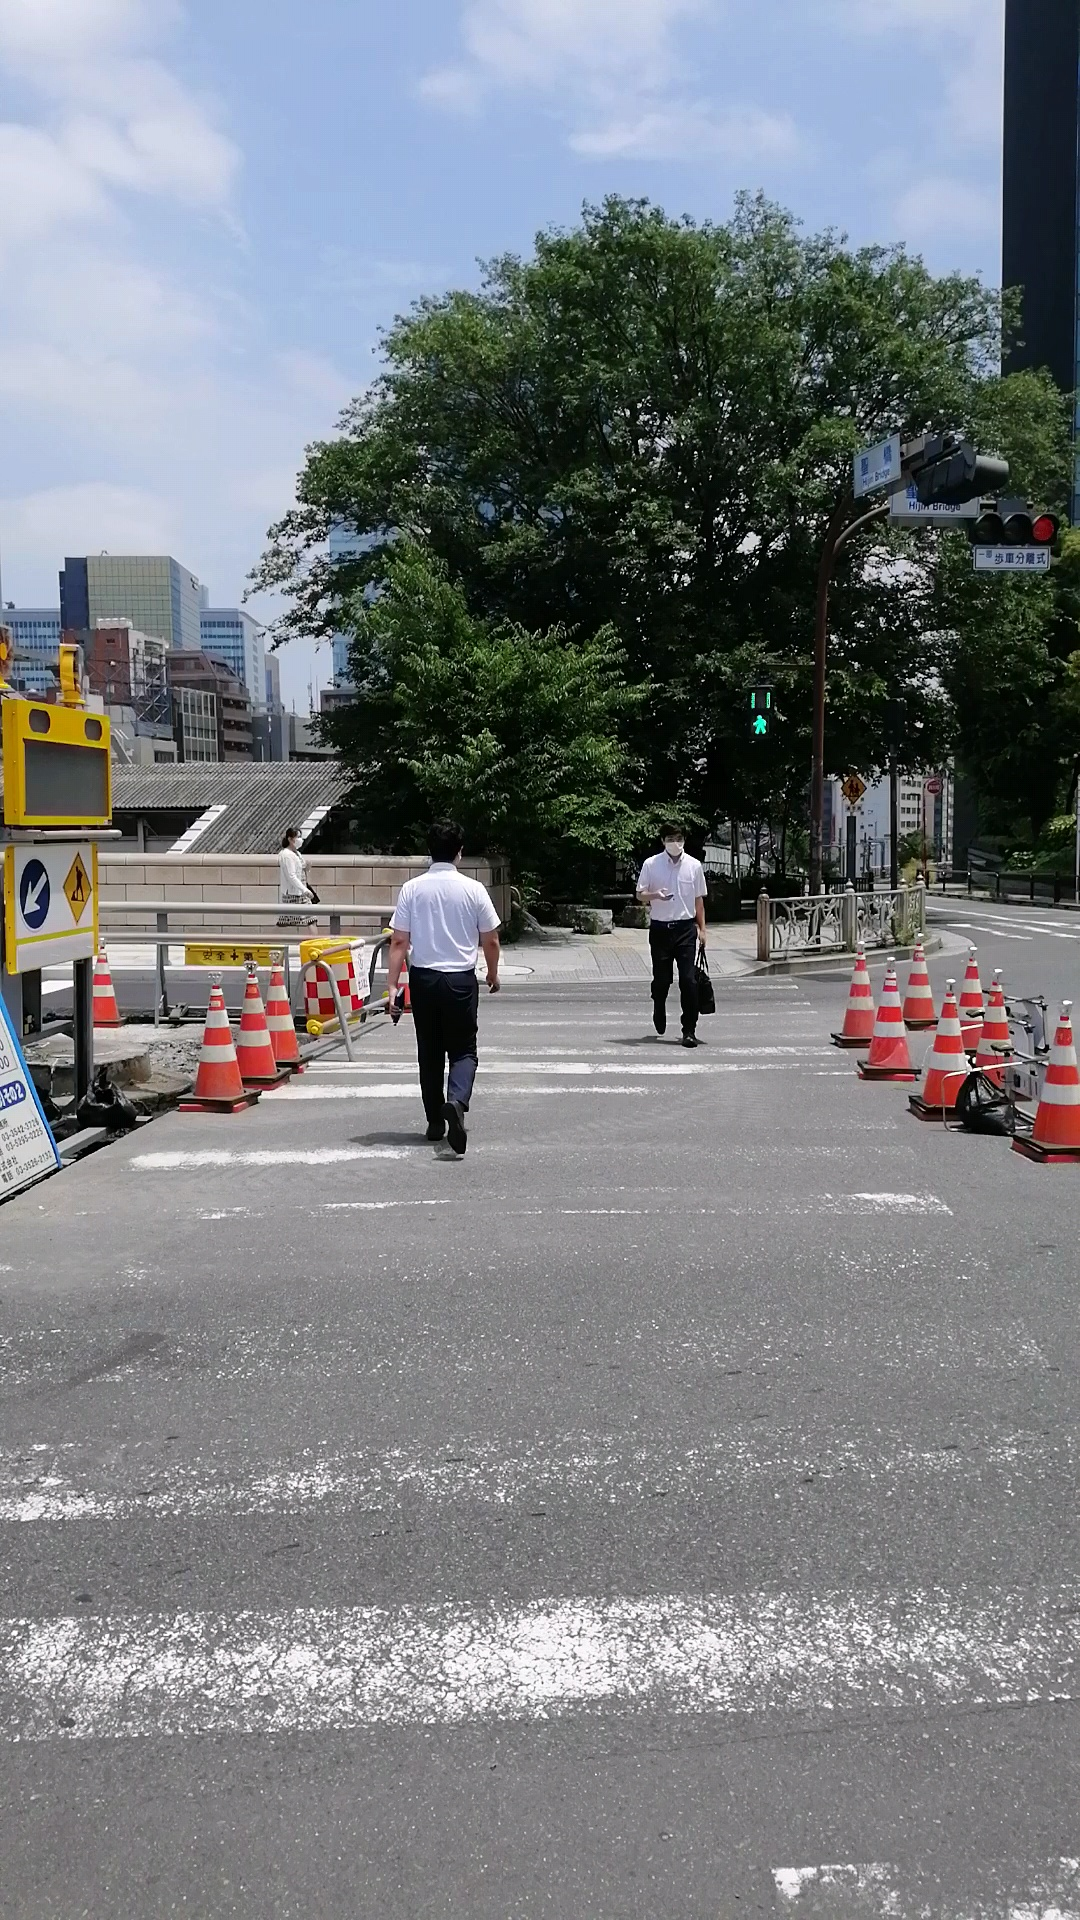green: (745, 684, 775, 742)
